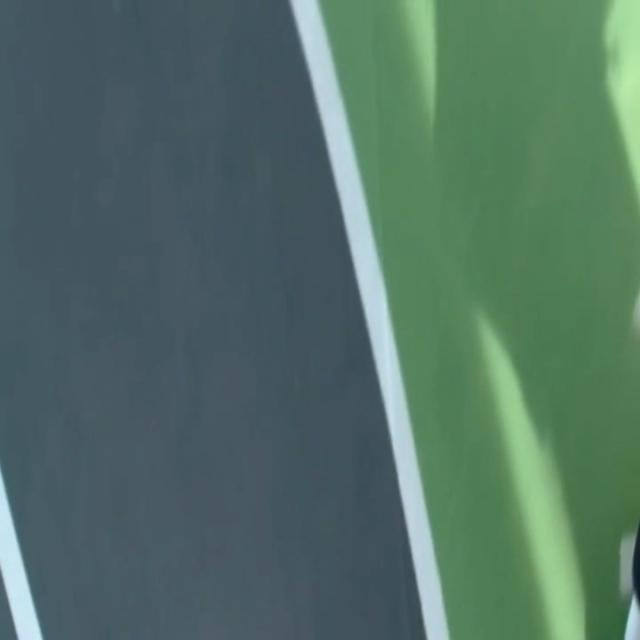right: (290, 0, 449, 639)
